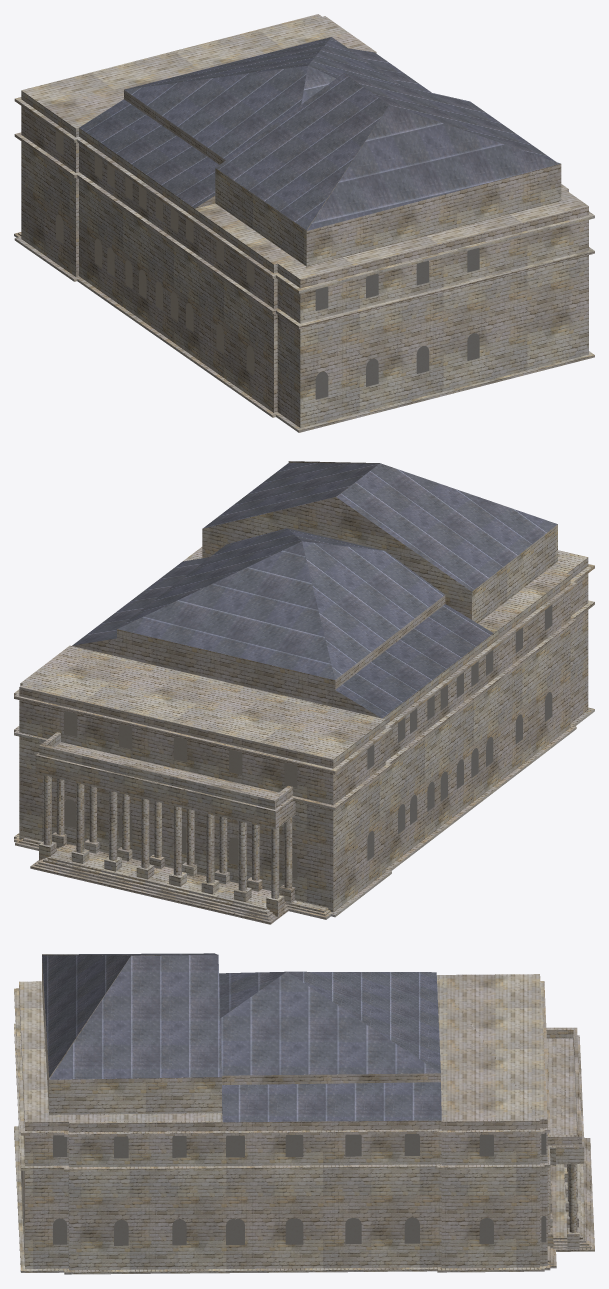
The model's file is odeon.glb.
3 renders of one model, top to bottom at view 1: azimuth 30°, elevation 25°; view 2: azimuth 150°, elevation 25°; view 3: azimuth 270°, elevation 25°, orthographic. The views are drawn at different scales.
Visible parts, largest first — view 1: stone, roof, window; view 2: stone, roof, window; view 3: stone, roof, window.
Boxes of the visible parts, x1,y1,x2,y2 form: stone: (14,14,594,432); roof: (79,37,560,230); window: (56,130,479,399); stone: (14,461,594,924); roof: (72,463,557,718); window: (64,605,552,878); stone: (14,954,594,1274); roof: (42,953,441,1122); window: (22,1132,546,1245).
Size of the model in its own units: 37.58 by 28 by 60.11.
3 materials, 3 textured.
